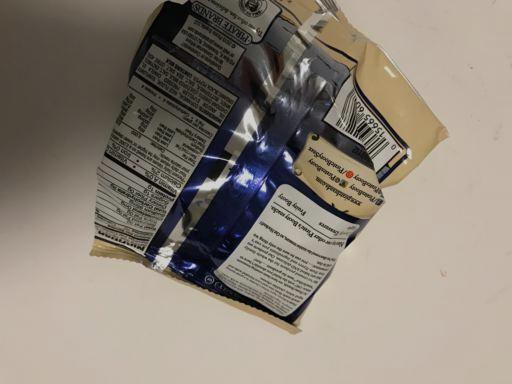trash: (88, 4, 450, 336)
